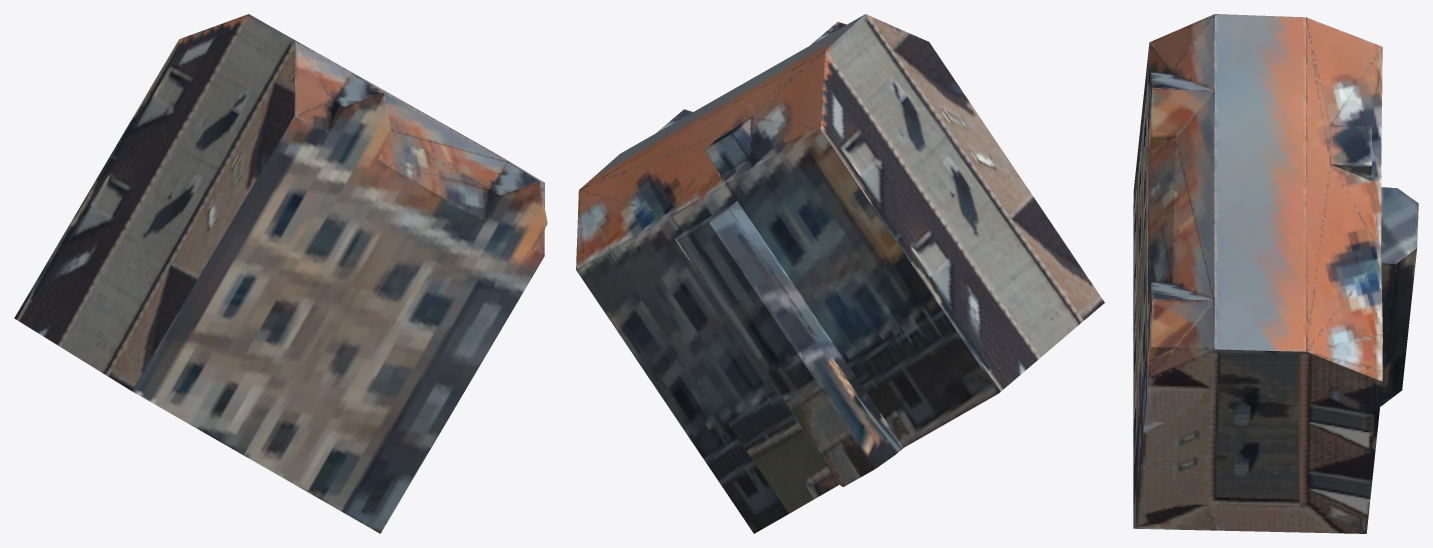
3 views of the same model, side by side, from view 1: azimuth 30°, elevation 25°; view 2: azimuth 150°, elevation 25°; view 3: azimuth 270°, elevation 25° (orthographic). The views are drawn at different scales.
Parts seen in each view (by area): view 1: BAG_0599100000688742 (×4); view 2: BAG_0599100000688742 (×5); view 3: BAG_0599100000688742 (×6).
Boxes of the visible parts, left/top/right/bottom form: BAG_0599100000688742 (×4): left=14, top=14, right=547, bottom=533; BAG_0599100000688742 (×5): left=576, top=14, right=1104, bottom=533; BAG_0599100000688742 (×6): left=1133, top=14, right=1418, bottom=533.
Bounding box in the file's own units: 17.54 × 17.7 × 9.16.
Materials: 1 (1 with a texture image).
